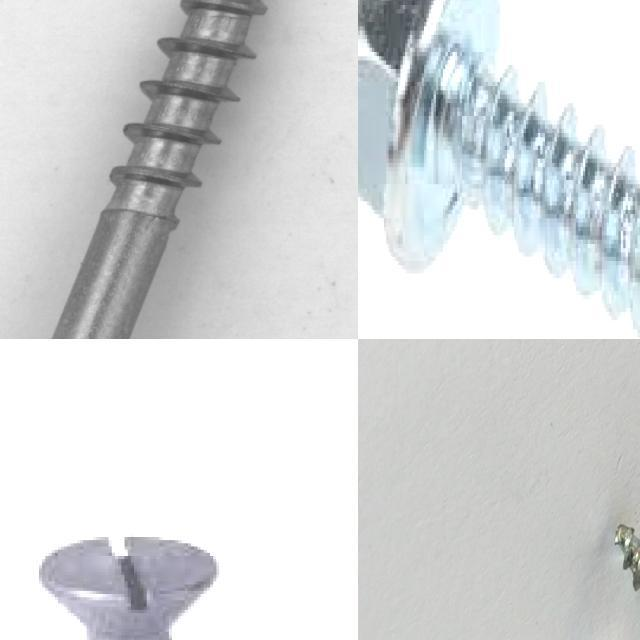Screw: (0, 0, 320, 339), (358, 0, 640, 339), (42, 537, 220, 640)
